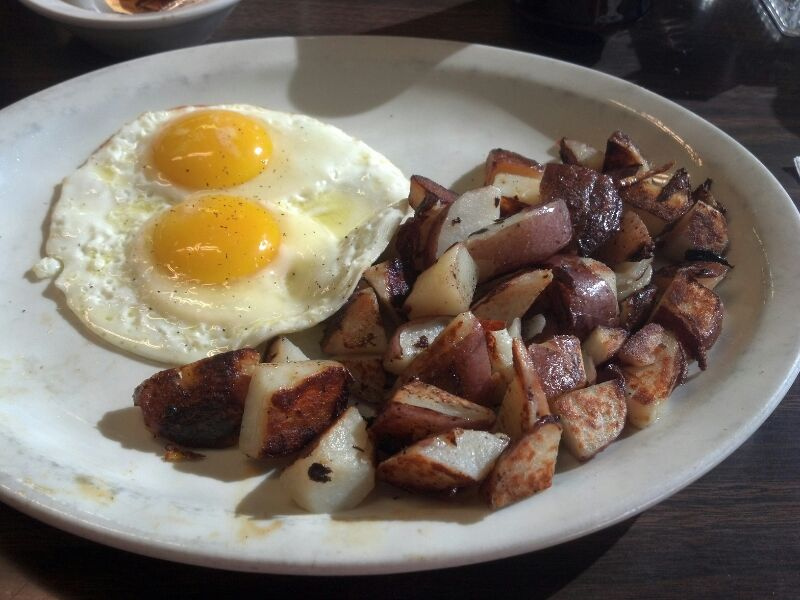boiled potatoes: (171, 156, 716, 502)
fried egg: (53, 189, 385, 347), (45, 104, 395, 199)
